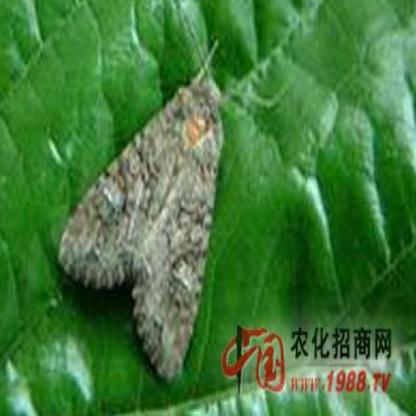armyworm: (56, 35, 226, 386)
